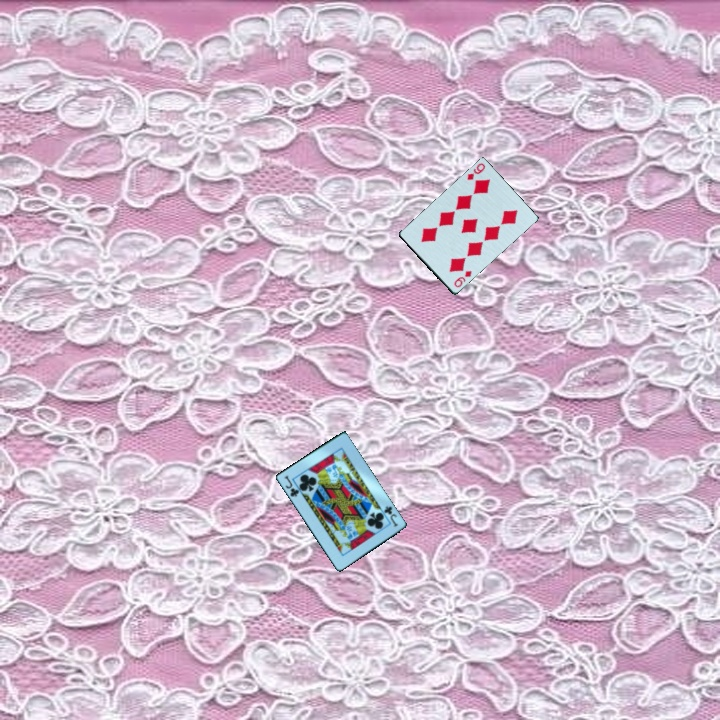9d: (450, 267, 475, 291), (464, 160, 488, 183)
Jc: (281, 472, 302, 500), (381, 503, 401, 530)
